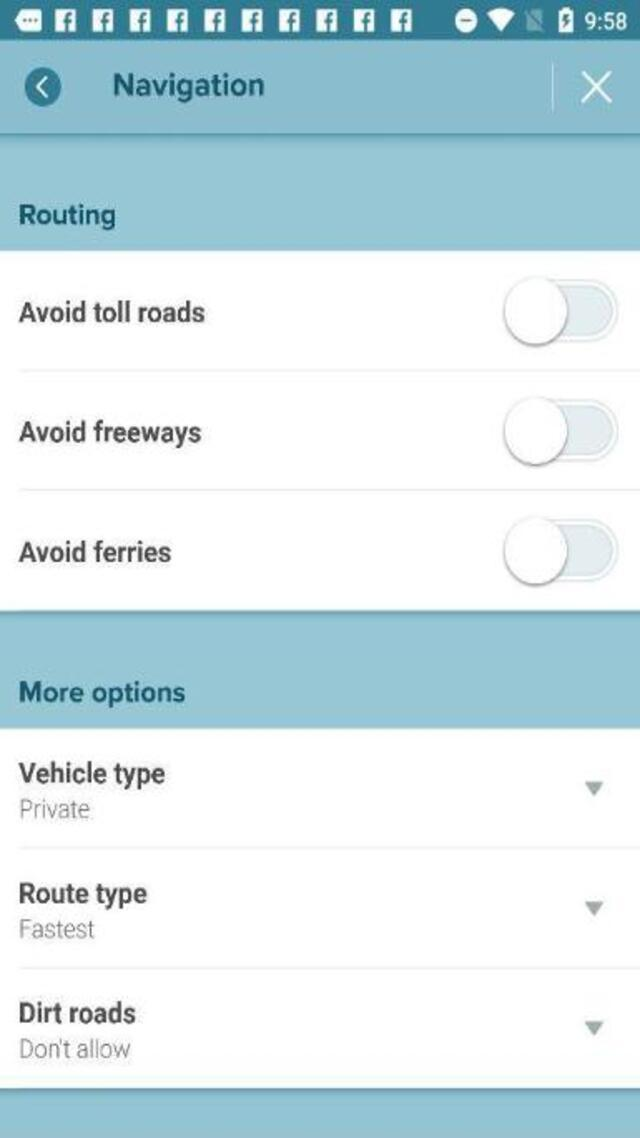CheckedTextView: (500, 514, 623, 591), (500, 392, 620, 470), (502, 275, 622, 348)
Icon: (24, 68, 62, 106), (579, 70, 611, 104), (584, 1020, 604, 1036), (584, 780, 604, 795), (584, 900, 604, 914)
Text: (19, 417, 200, 447), (19, 680, 184, 708), (114, 72, 264, 102), (19, 758, 164, 788), (18, 300, 205, 323), (19, 880, 147, 908), (18, 540, 172, 562), (20, 1000, 136, 1024), (19, 203, 114, 231), (20, 1037, 130, 1058), (20, 918, 96, 938), (20, 797, 90, 818)
